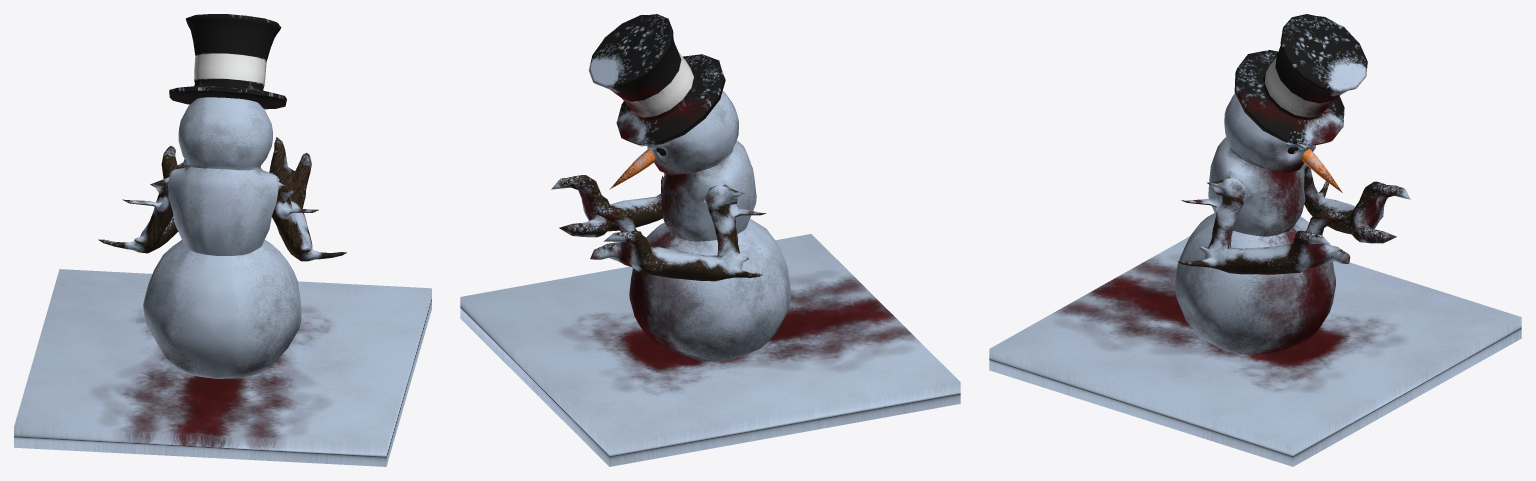
Rendered from dmuñecodenievemontaña2_lev5.glb.
3 views of the same model, side by side, from view 1: azimuth 30°, elevation 25°; view 2: azimuth 150°, elevation 25°; view 3: azimuth 270°, elevation 25° (orthographic).
Visible parts, largest first — view 1: Pavimento1_Pavimento1_0.002, SnowMan1_SnowMan1_0.002, Cappello1_Cappello1_0.002, Braccia_e__Mani1_Braccia_e__Mani1_0.002; view 2: Pavimento1_Pavimento1_0.002, SnowMan1_SnowMan1_0.002, Cappello1_Cappello1_0.002, Braccia_e__Mani1_Braccia_e__Mani1_0.002, Carota1_Carota1_0.002; view 3: Pavimento1_Pavimento1_0.002, SnowMan1_SnowMan1_0.002, Cappello1_Cappello1_0.002, Braccia_e__Mani1_Braccia_e__Mani1_0.002.
Part boxes in pixels (<box>): Pavimento1_Pavimento1_0.002: <box>14,269,431,466</box>; SnowMan1_SnowMan1_0.002: <box>143,97,301,378</box>; Cappello1_Cappello1_0.002: <box>169,14,286,109</box>; Braccia_e__Mani1_Braccia_e__Mani1_0.002: <box>98,137,346,261</box>; Pavimento1_Pavimento1_0.002: <box>460,234,960,466</box>; SnowMan1_SnowMan1_0.002: <box>629,91,790,361</box>; Cappello1_Cappello1_0.002: <box>589,14,725,146</box>; Braccia_e__Mani1_Braccia_e__Mani1_0.002: <box>551,175,766,281</box>; Carota1_Carota1_0.002: <box>609,149,655,189</box>; Pavimento1_Pavimento1_0.002: <box>989,236,1521,466</box>; SnowMan1_SnowMan1_0.002: <box>1174,93,1335,354</box>; Cappello1_Cappello1_0.002: <box>1234,14,1367,146</box>; Braccia_e__Mani1_Braccia_e__Mani1_0.002: <box>1177,164,1410,274</box>.
Size of the model in its own units: 69.19 by 50.07 by 69.19.
Materials: 6 (6 with a texture image).
